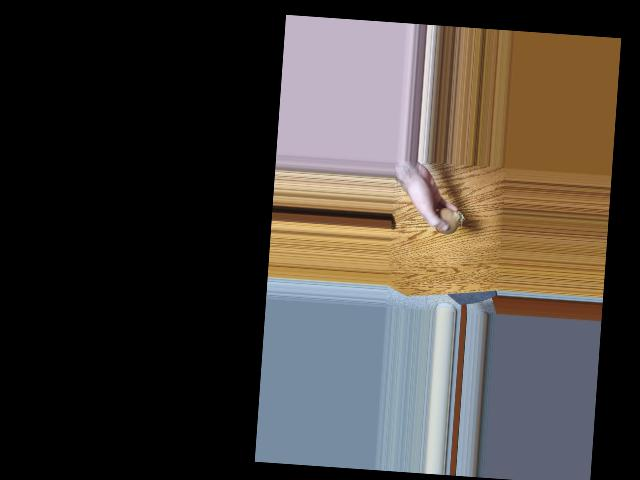onion: (435, 211, 457, 233)
